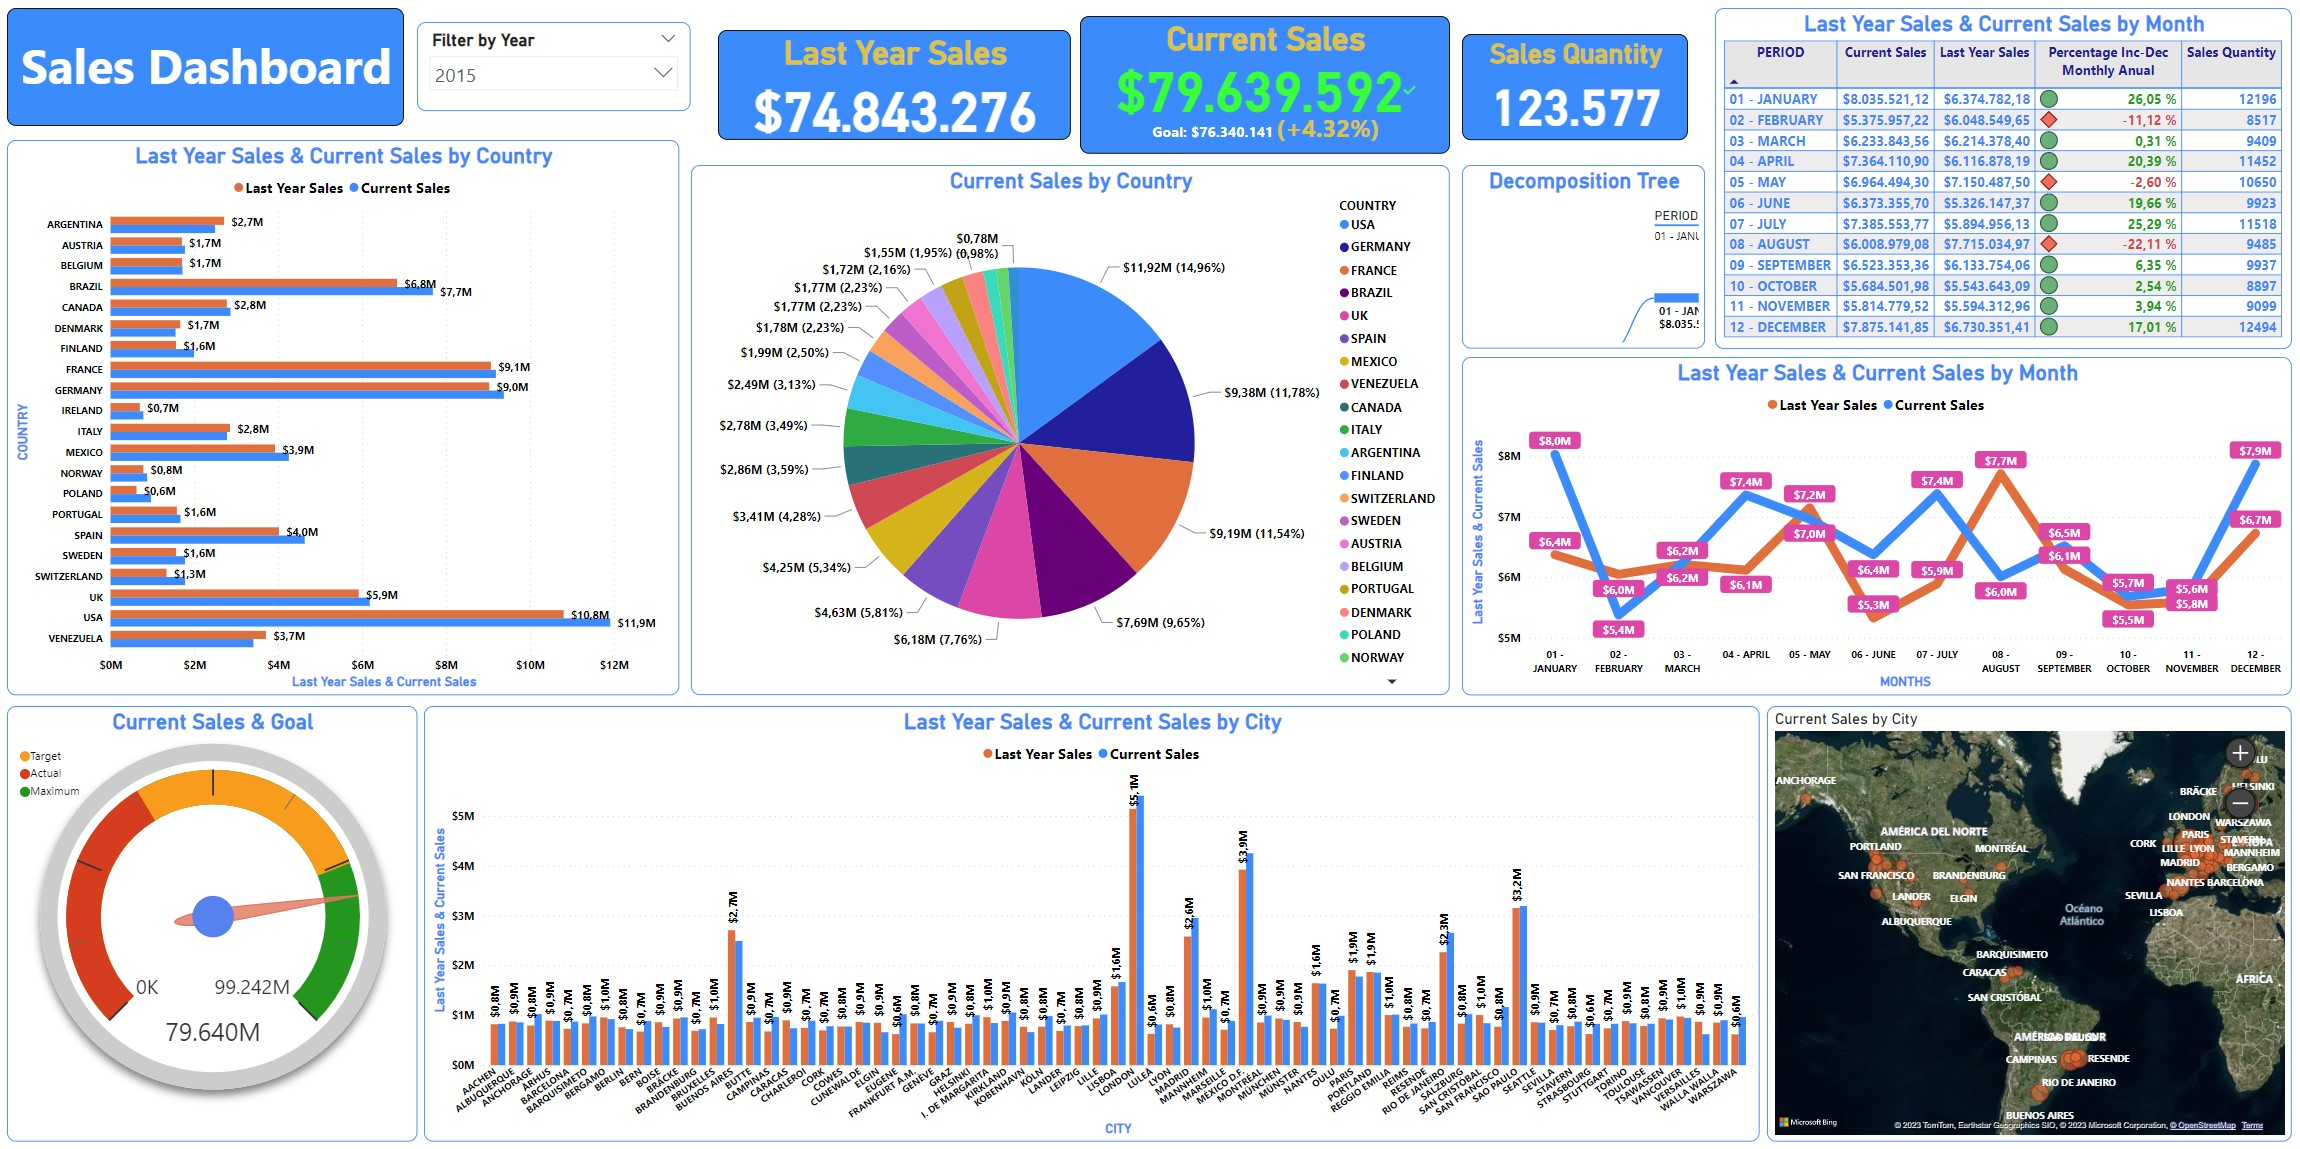

What the dashboard file says about the page in this screenshot:
{"tool":"powerbi","page":{"name":"Sales","canvas":[2560,1280],"ordinal":0},"visuals":[{"type":"slicer","fields":{"Values":["DIM_TIME.YEAR"]},"box":[465.6,25.6,304.4,98.9],"z":0},{"type":"card","title":"Last Year Sales","fields":{"Values":["METRICAS.Ventas del año anterior"]},"box":[800,34.4,392.2,122.2],"z":1000},{"type":"kpi","title":"Current Sales","fields":{"Indicator":["METRICAS.Ventas actuales"],"TrendLine":["DIM_TIME.YEAR"],"Goal":["METRICAS.Monto Meta"]},"box":[1202.2,18.9,411.1,153.3],"z":2000},{"type":"tableEx","title":"Last Year Sales & Current Sales by Month","fields":{"Values":["DIM_TIME.PERIOD","METRICAS.Ventas actuales","METRICAS.Ventas del año anterior","METRICAS.Porcentaje Inc-Dec Mensual Anual","METRICAS.Cantidad de ordenes"]},"box":[1907.8,10,641.1,378.9],"z":3000},{"type":"card","title":"Sales Quantity","fields":{"Values":["METRICAS.Cantidad de ordenes"]},"box":[1626.7,38.9,251.1,117.8],"z":4000},{"type":"pieChart","title":"Current Sales by Country","fields":{"Category":["DIM_CUSTOMERS.COUNTRY"],"Y":["METRICAS.Ventas actuales"]},"box":[770,184.4,843.3,588.9],"z":5000},{"type":"clusteredBarChart","title":"Last Year Sales & Current Sales by Country","fields":{"Category":["DIM_CUSTOMERS.COUNTRY"],"Y":["METRICAS.Ventas del año anterior","METRICAS.Ventas actuales"]},"box":[10,156.7,746.7,616.7],"z":6000},{"type":"lineChart","title":"Last Year Sales & Current Sales by Month","fields":{"Category":["DIM_TIME.PERIOD"],"Y":["METRICAS.Ventas del año anterior","METRICAS.Ventas actuales"]},"box":[1626.7,397.8,922.2,375.6],"z":7000},{"type":"clusteredColumnChart","title":"Last Year Sales & Current Sales by City","fields":{"Y":["METRICAS.Ventas del año anterior","METRICAS.Ventas actuales"],"Category":["DIM_CUSTOMERS.CITY"]},"box":[473.3,785.6,1484.4,484.4],"z":8000},{"type":"textbox","box":[10,10,441.1,131.1],"z":9000},{"type":"map","title":"Current Sales by City","fields":{"Category":["DIM_CUSTOMERS.CITY"],"Size":["METRICAS.Current Sales"]},"box":[1965.6,785.6,583.3,484.4],"z":10000},{"type":"decompositionTreeVisual","title":"Decomposition Tree","fields":{"Analyze":["METRICAS.Current Sales"],"ExplainBy":["DIM_TIME.PERIOD","DIM_EMPLOYEES.EMPLOYEE_NAME","DIM_PRODUCTS.CATEGORY","DIM_PRODUCTS.PRODUCT_NAME","DIM_PRODUCTS.SUPPLIER","DIM_CUSTOMERS.CONTACT_NAME"]},"box":[1626.7,184.4,270,204.4],"z":11000},{"type":"dg5AAA90EFEFE747CB9357C4FC19B85A58","title":"Current Sales & Goal","fields":{"pointerValue":["METRICAS.Current Sales"],"redEnd":["METRICAS.Min Sales"],"max":["METRICAS.Max Sales"],"yellowEnd":["METRICAS.Last Year Sales"]},"box":[10,785.6,455.6,484.4],"z":13000}]}

Visuals, with their boxes in screenshot pixels (x1, y1, x2, y2), scaled from the page's 2560x1280 canvas onto the 2300x1149 screenshot:
slicer - DIM_TIME.YEAR: {"left": 418, "top": 23, "right": 692, "bottom": 112}
"Last Year Sales" card: {"left": 719, "top": 31, "right": 1071, "bottom": 141}
"Current Sales" kpi: {"left": 1080, "top": 17, "right": 1449, "bottom": 155}
"Last Year Sales & Current Sales by Month" tableEx: {"left": 1714, "top": 9, "right": 2290, "bottom": 349}
"Sales Quantity" card: {"left": 1461, "top": 35, "right": 1687, "bottom": 141}
"Current Sales by Country" pieChart: {"left": 692, "top": 166, "right": 1449, "bottom": 694}
"Last Year Sales & Current Sales by Country" clusteredBarChart: {"left": 9, "top": 141, "right": 680, "bottom": 694}
"Last Year Sales & Current Sales by Month" lineChart: {"left": 1461, "top": 357, "right": 2290, "bottom": 694}
"Last Year Sales & Current Sales by City" clusteredColumnChart: {"left": 425, "top": 705, "right": 1759, "bottom": 1140}
textbox: {"left": 9, "top": 9, "right": 405, "bottom": 127}
"Current Sales by City" map: {"left": 1766, "top": 705, "right": 2290, "bottom": 1140}
"Decomposition Tree" decompositionTreeVisual: {"left": 1461, "top": 166, "right": 1704, "bottom": 349}
"Current Sales & Goal" dg5AAA90EFEFE747CB9357C4FC19B85A58: {"left": 9, "top": 705, "right": 418, "bottom": 1140}
